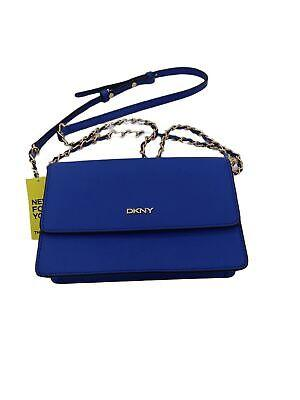DKNY: (127, 207, 154, 214)
